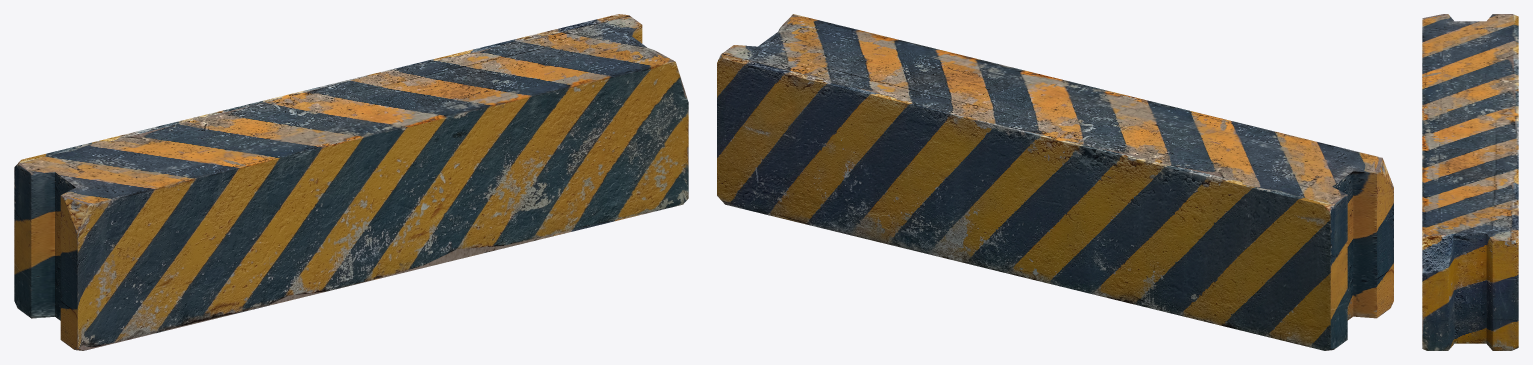
Rendered from RoadblockYellow_01.fbx.
3 renders of one model, left to right at view 1: azimuth 30°, elevation 25°; view 2: azimuth 150°, elevation 25°; view 3: azimuth 270°, elevation 25°, orthographic. The views are drawn at different scales.
Parts seen in each view (by area): view 1: RoadblockYellow_01; view 2: RoadblockYellow_01; view 3: RoadblockYellow_01.
Part boxes in pixels (x1=…): RoadblockYellow_01: x1=14, y1=14, x2=688, y2=350; RoadblockYellow_01: x1=717, y1=14, x2=1393, y2=350; RoadblockYellow_01: x1=1422, y1=14, x2=1518, y2=350.
Bounding box in the file's own units: 58.69 × 13.29 × 10.52.
Materials: 1 (1 with a texture image).
